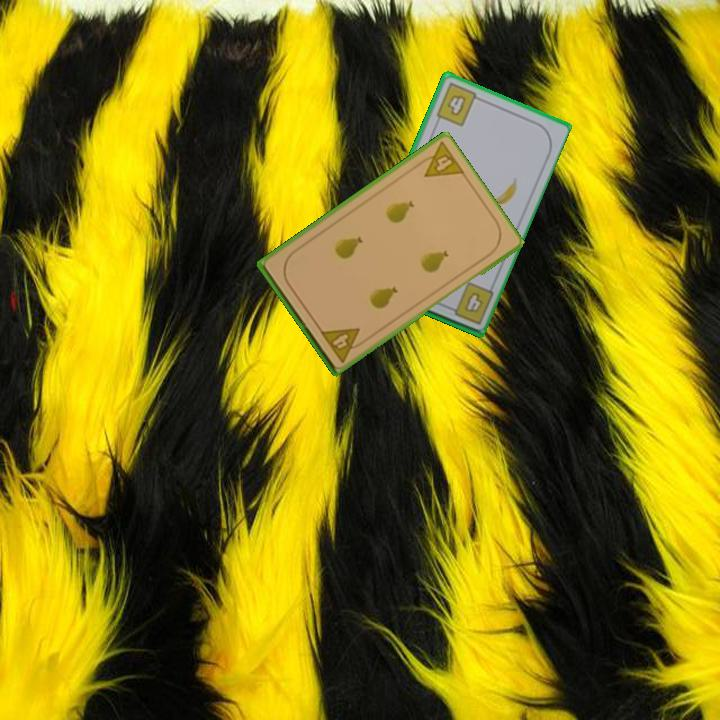4b: (432, 79, 485, 129), (442, 280, 496, 327)
4p: (412, 138, 467, 180), (317, 323, 369, 365)
